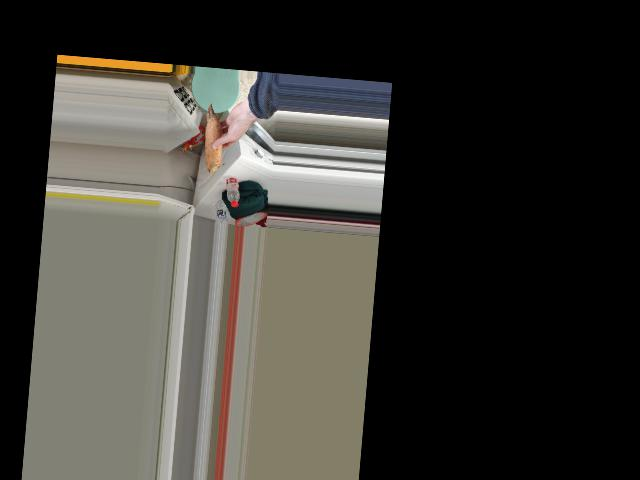sweet_potato: (203, 107, 228, 167)
